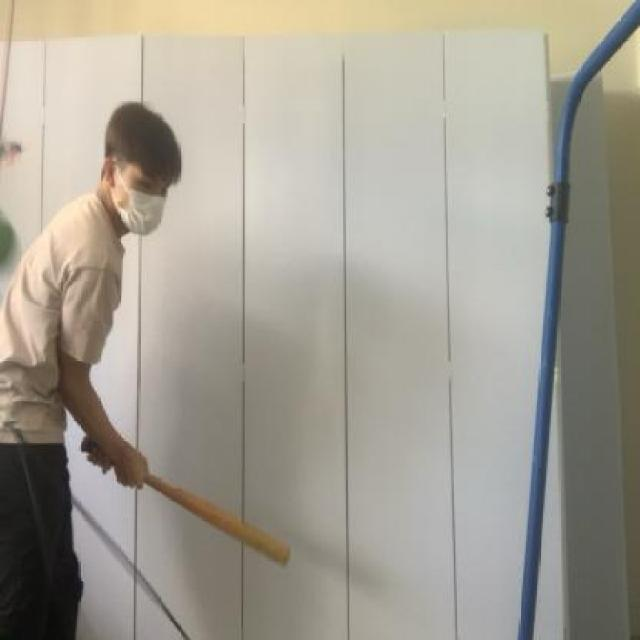baseball: (0, 192, 14, 271)
